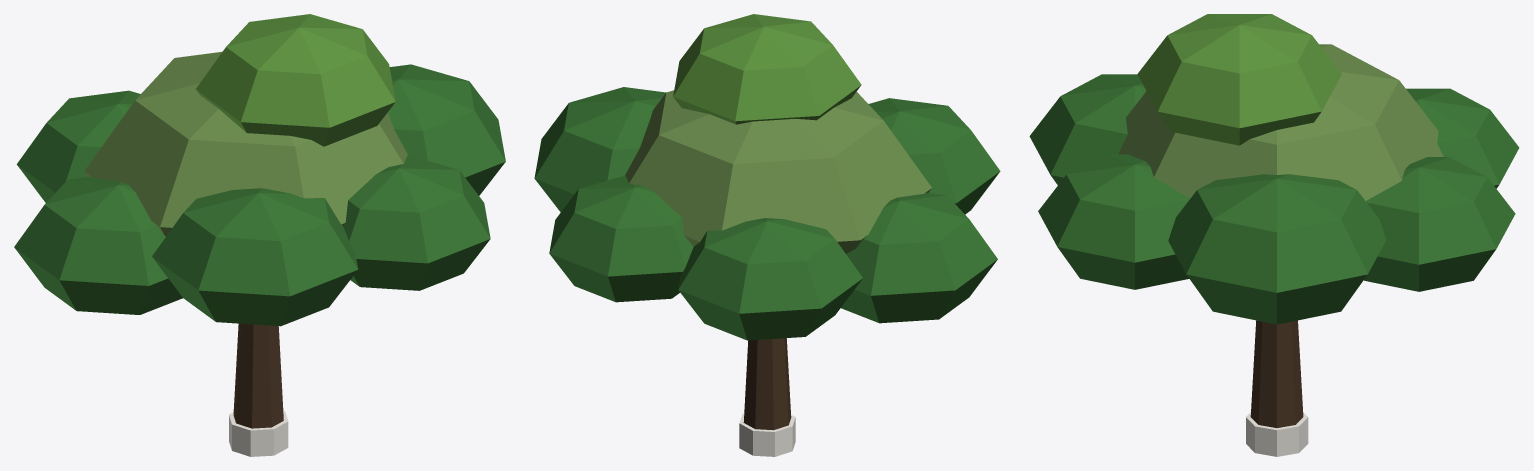
File: arbol_antiguo_2.obj
The picture shows the model from 3 angles, left to right: view 1: azimuth 30°, elevation 25°; view 2: azimuth 150°, elevation 25°; view 3: azimuth 270°, elevation 25°; orthographic projection. The views are drawn at different scales.
Visible parts, largest first — view 1: arbol_antiguo_2; view 2: arbol_antiguo_2; view 3: arbol_antiguo_2.
Boxes of the visible parts, x1,y1,x2,y2 form: arbol_antiguo_2: [14, 14, 505, 456]; arbol_antiguo_2: [534, 14, 1000, 456]; arbol_antiguo_2: [1029, 14, 1519, 456].
Bounding box in the file's own units: 16.44 × 14.46 × 14.94.
